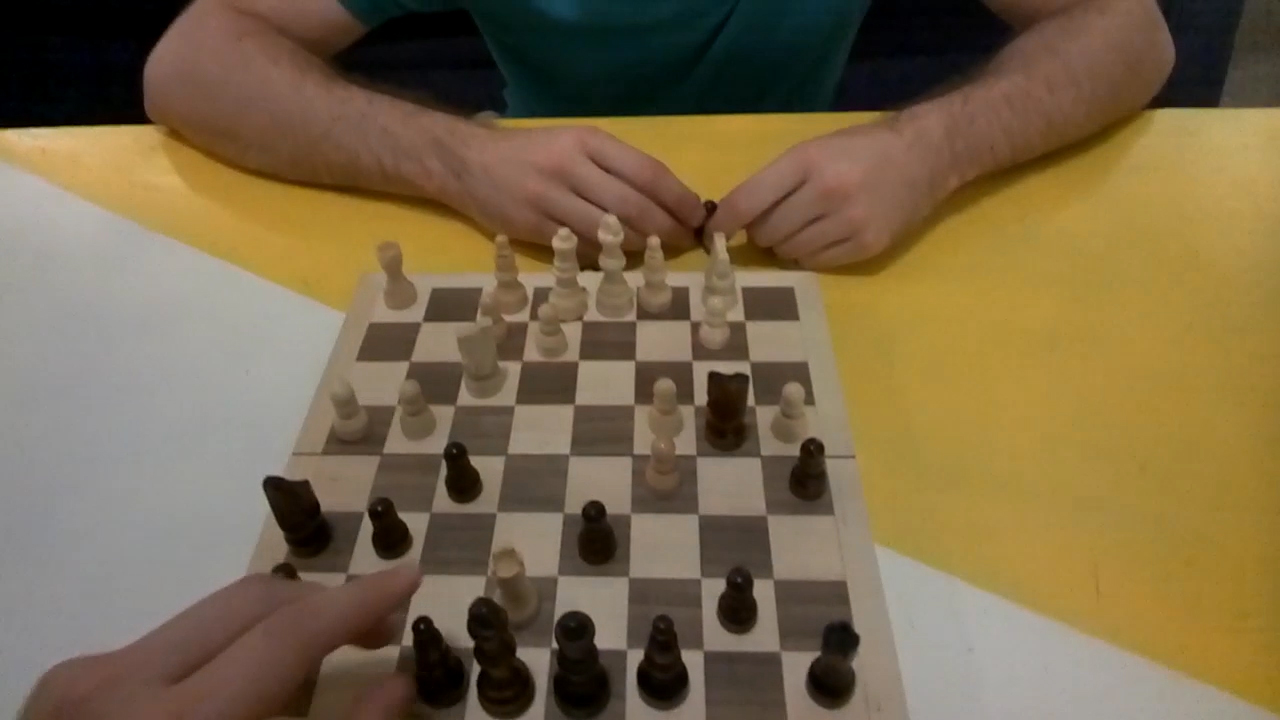hand: (23, 573, 414, 717), (703, 129, 937, 266), (459, 125, 707, 254)
